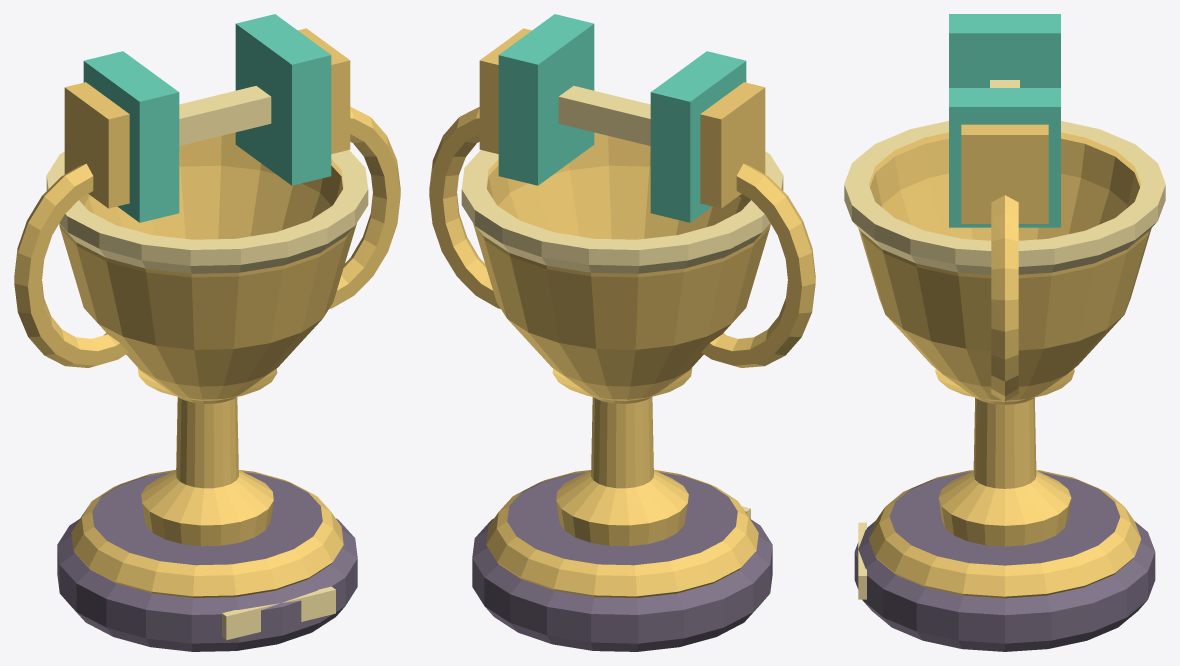
File: fitness.glb
The picture shows the model from 3 angles, left to right: view 1: azimuth 30°, elevation 25°; view 2: azimuth 150°, elevation 25°; view 3: azimuth 270°, elevation 25°; orthographic projection.
Bounding box in the file's own units: 1.27 × 1.68 × 0.92.
